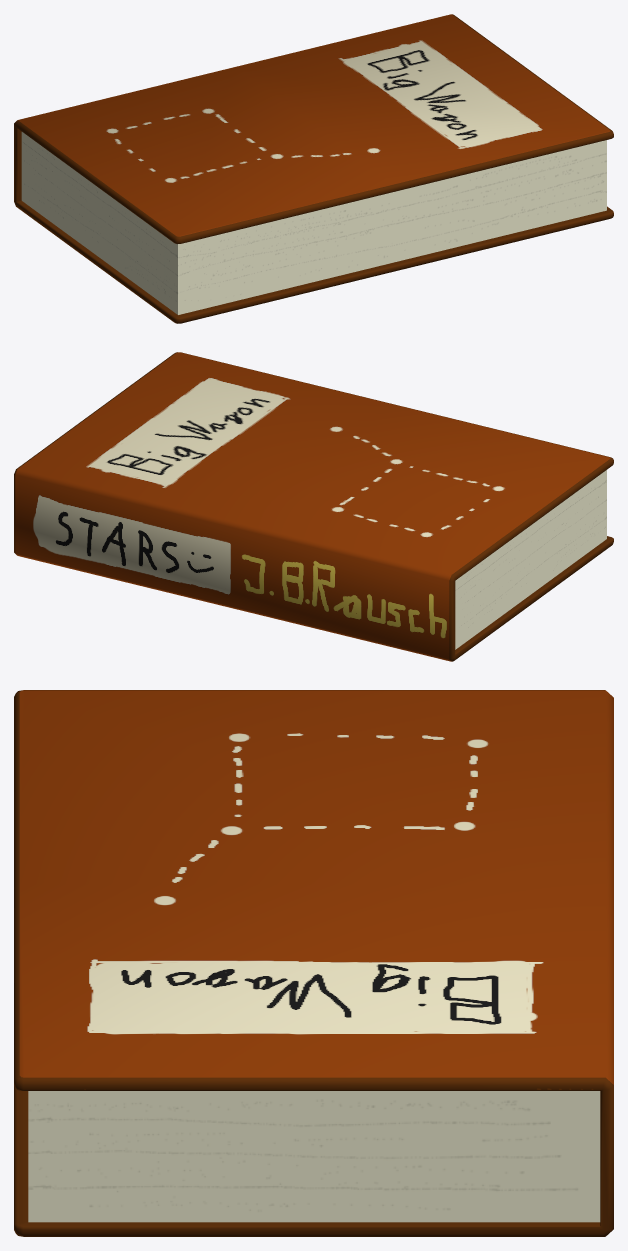
Rendered from Book.fbx.
The picture shows the model from 3 angles, top to bottom: view 1: azimuth 30°, elevation 25°; view 2: azimuth 150°, elevation 25°; view 3: azimuth 270°, elevation 25°; orthographic projection. The views are drawn at different scales.
Visible parts, largest first — view 1: Cube; view 2: Cube; view 3: Cube.
Part boxes in pixels (left/top/right/bottom): Cube: left=14, top=14, right=613, bottom=323; Cube: left=14, top=352, right=613, bottom=661; Cube: left=14, top=690, right=613, bottom=1236.
Bounding box in the file's own units: 50 × 9.45 × 32.32.
1 material, 1 textured.
